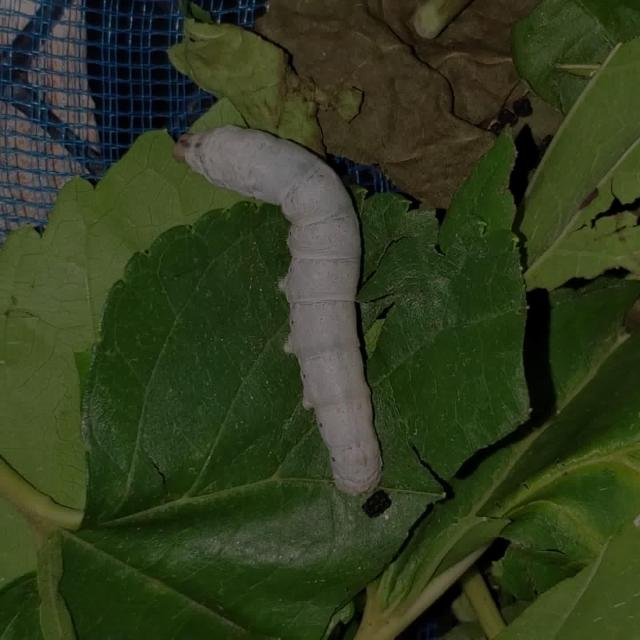Healthy: (141, 97, 449, 522)
